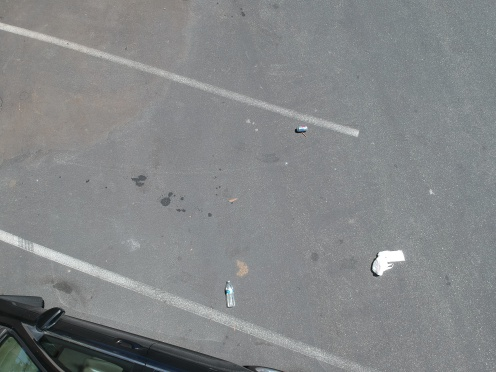bottle: (219, 276, 239, 309)
can: (290, 121, 313, 134)
plastic bag: (363, 245, 410, 282)
